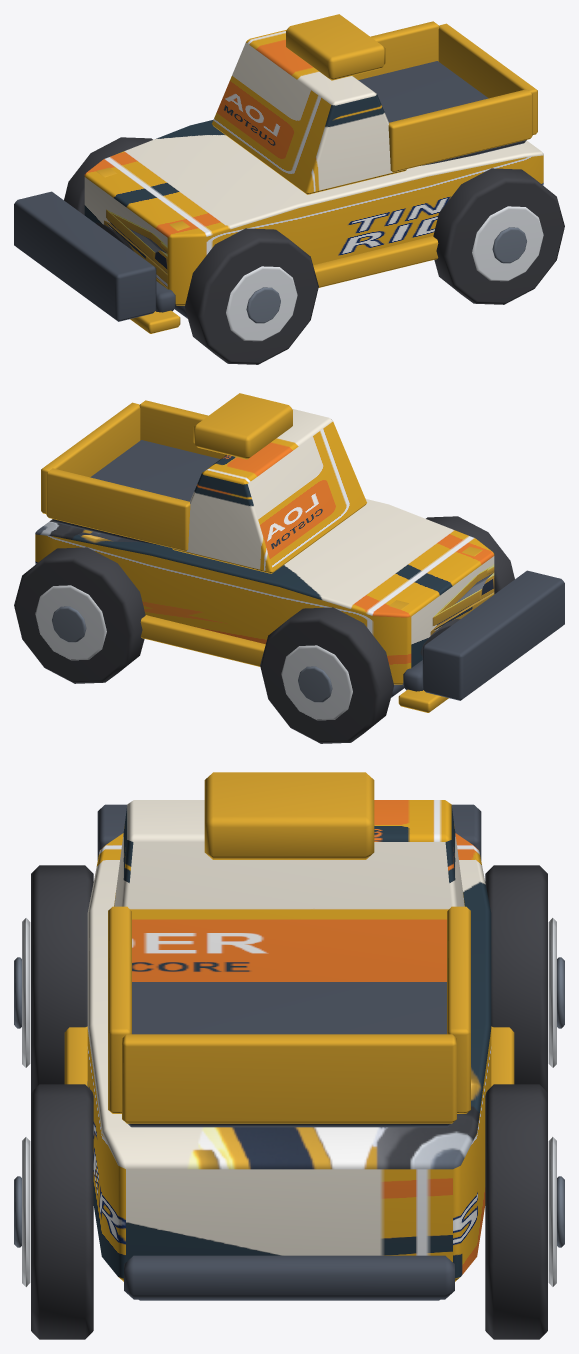
3 views of the same model, one above another, from view 1: azimuth 30°, elevation 25°; view 2: azimuth 150°, elevation 25°; view 3: azimuth 270°, elevation 25° (orthographic). The views are drawn at different scales.
Visible parts, largest first — view 1: WY-05_connected_shell, WY-05_cabin, loader bucket, Tire, Tire.002, cargo side, cargo floor, custom equipment, cargo tail, Rim.002, Rim, custom side guard (+6 smaller); view 2: WY-05_connected_shell, WY-05_cabin, loader bucket, Tire.001, Tire.003, cargo side.001, cargo floor, custom equipment, cargo tail, Rim.003, Rim.001, custom side guard.001 (+6 smaller); view 3: WY-05_connected_shell, WY-05_cabin, cargo tail, cargo floor, Tire.002, Tire.003, custom equipment, rear bumper, Tire, Tire.001, cargo side, cargo side.001 (+7 smaller).
Part boxes in pixels (box(x1,y1,x2,y2)): WY-05_connected_shell: box(84, 120, 543, 305); WY-05_cabin: box(212, 29, 406, 194); loader bucket: box(14, 191, 156, 321); Tire: box(185, 228, 318, 364); Tire.002: box(433, 168, 564, 304); cargo side: box(388, 89, 532, 172); cargo floor: box(358, 61, 526, 165); custom equipment: box(286, 14, 385, 80); cargo tail: box(438, 23, 537, 134); Rim.002: box(472, 206, 543, 281); Rim: box(226, 266, 297, 341); custom side guard: box(313, 236, 438, 287); WY-05_connected_shell: box(35, 499, 494, 684); WY-05_cabin: box(172, 408, 366, 573); loader bucket: box(422, 570, 564, 700); Tire.001: box(260, 607, 393, 743); Tire.003: box(14, 547, 145, 683); cargo side.001: box(46, 468, 190, 551); cargo floor: box(52, 440, 220, 544); custom equipment: box(193, 393, 292, 459); cargo tail: box(41, 402, 140, 513); Rim.003: box(35, 585, 106, 660); Rim.001: box(281, 645, 352, 720); custom side guard.001: box(140, 615, 265, 666); WY-05_connected_shell: box(87, 833, 491, 1281); WY-05_cabin: box(114, 800, 464, 981); cargo tail: box(122, 1034, 456, 1123); cargo floor: box(127, 982, 451, 1127); Tire.002: box(31, 1084, 93, 1339); Tire.003: box(485, 1084, 547, 1339); custom equipment: box(204, 772, 374, 859); rear bumper: box(124, 1255, 454, 1299); Tire: box(31, 865, 93, 1092); Tire.001: box(485, 865, 547, 1092); cargo side: box(108, 906, 131, 1113); cargo side.001: box(447, 906, 470, 1113).
Size of the model in its own units: 389 by 203 by 228.
